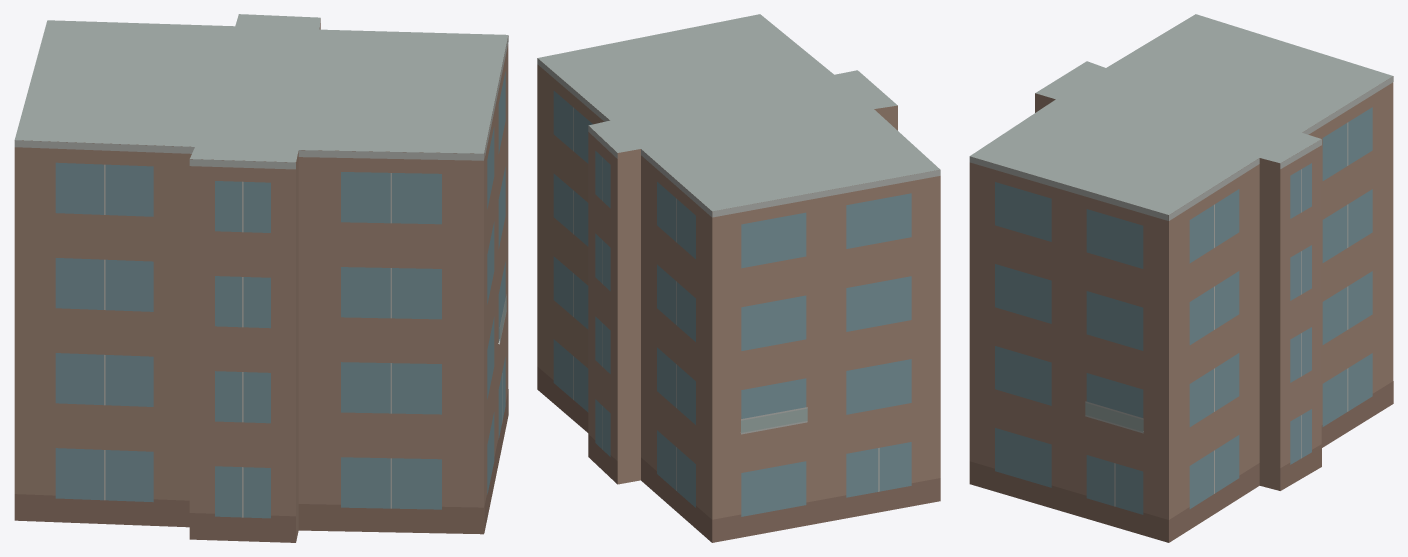
File: survey-upis-32747975.glb
3 renders of one model, left to right at view 1: azimuth 30°, elevation 25°; view 2: azimuth 150°, elevation 25°; view 3: azimuth 270°, elevation 25°, orthographic. The views are drawn at different scales.
Visible parts, largest first — view 1: survey-upis-32747975.tmp; view 2: survey-upis-32747975.tmp; view 3: survey-upis-32747975.tmp.
Boxes of the visible parts, x1=… form: survey-upis-32747975.tmp: x1=14, y1=14, x2=508, y2=542; survey-upis-32747975.tmp: x1=537, y1=14, x2=940, y2=542; survey-upis-32747975.tmp: x1=969, y1=14, x2=1393, y2=542.
Bounding box in the file's own units: 17.24 × 13.1 × 15.36.
